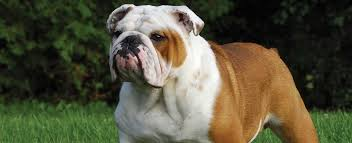Bulldog: (93, 3, 324, 143)
